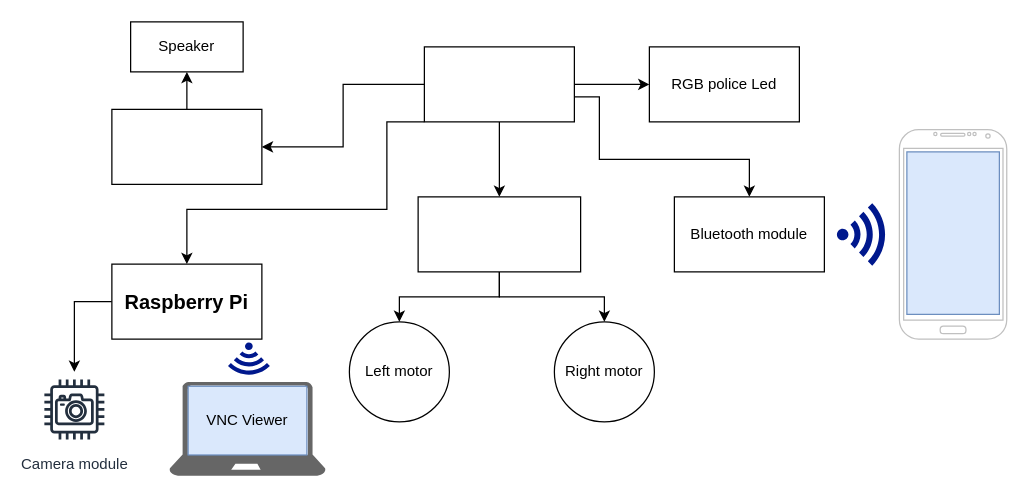
Image size: 1029x498. Some labels were removed from this diagram. The box of each missing label's shape, as (x1, y1, x2, y2) in pixels:
Adafruit BLE app: (906, 151, 999, 314)
Class D amplifier: (111, 108, 262, 184)
Dual H-Bridge Motor controller: (417, 196, 581, 272)
Mbed: (423, 46, 574, 122)
